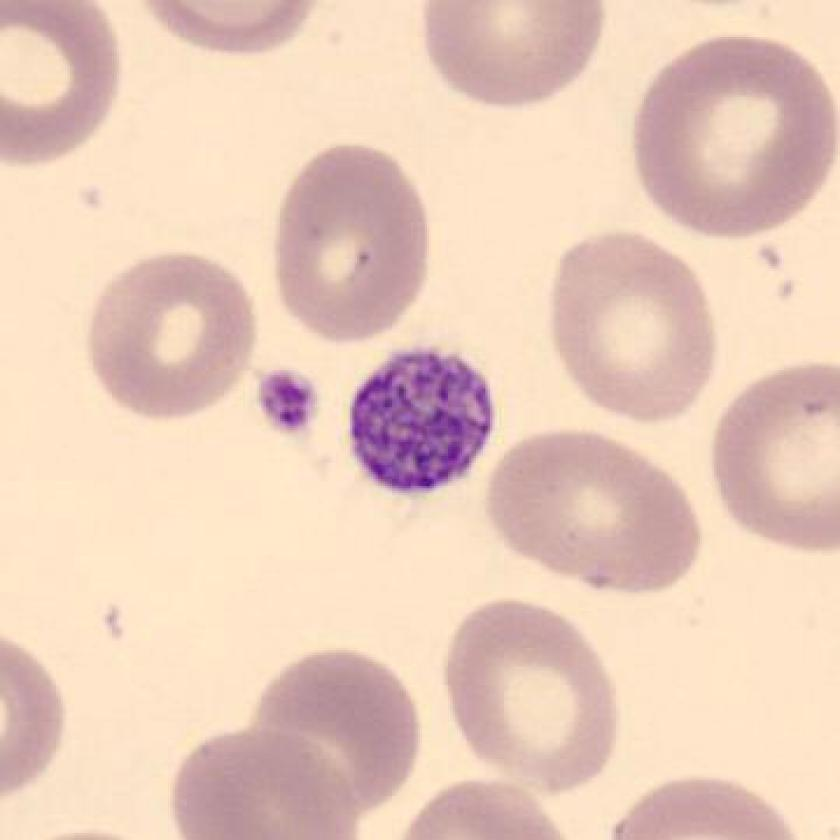platelets: (344, 341, 503, 499), (251, 360, 321, 434)
